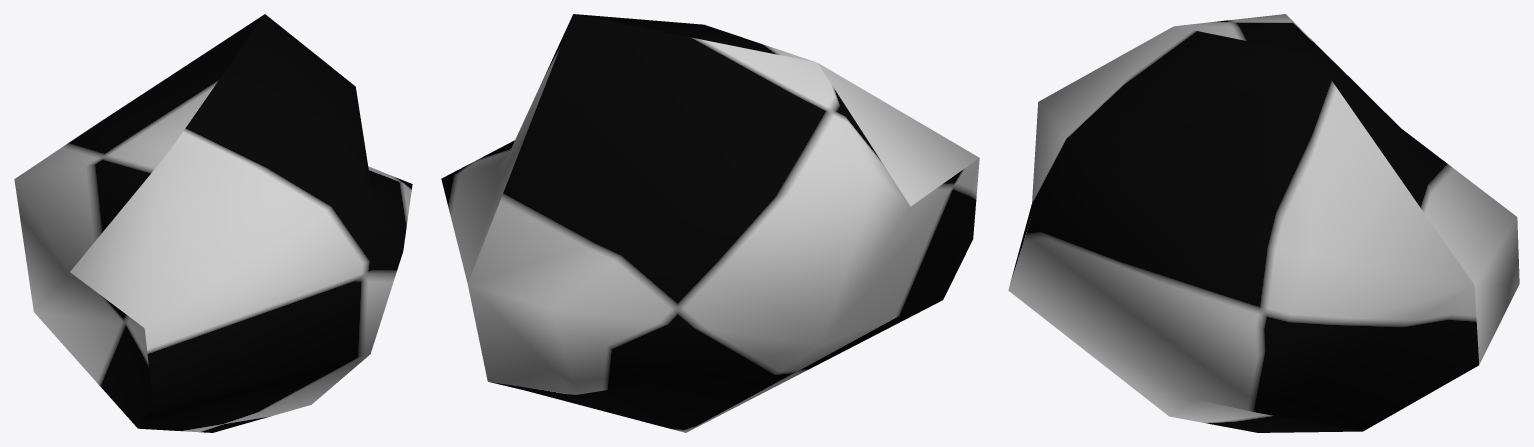
Rendered from ore_prometium.obj.
The picture shows the model from 3 angles, left to right: view 1: azimuth 30°, elevation 25°; view 2: azimuth 150°, elevation 25°; view 3: azimuth 270°, elevation 25°; orthographic projection. The views are drawn at different scales.
Visible parts, largest first — view 1: ore_prometium; view 2: ore_prometium; view 3: ore_prometium.
Boxes of the visible parts, x1=… form: ore_prometium: x1=14, y1=14, x2=412, y2=432; ore_prometium: x1=441, y1=14, x2=979, y2=432; ore_prometium: x1=1008, y1=14, x2=1519, y2=432.
Size of the model in its own units: 25.26 by 23.19 by 25.58.
Materials: 1 (1 with a texture image).
